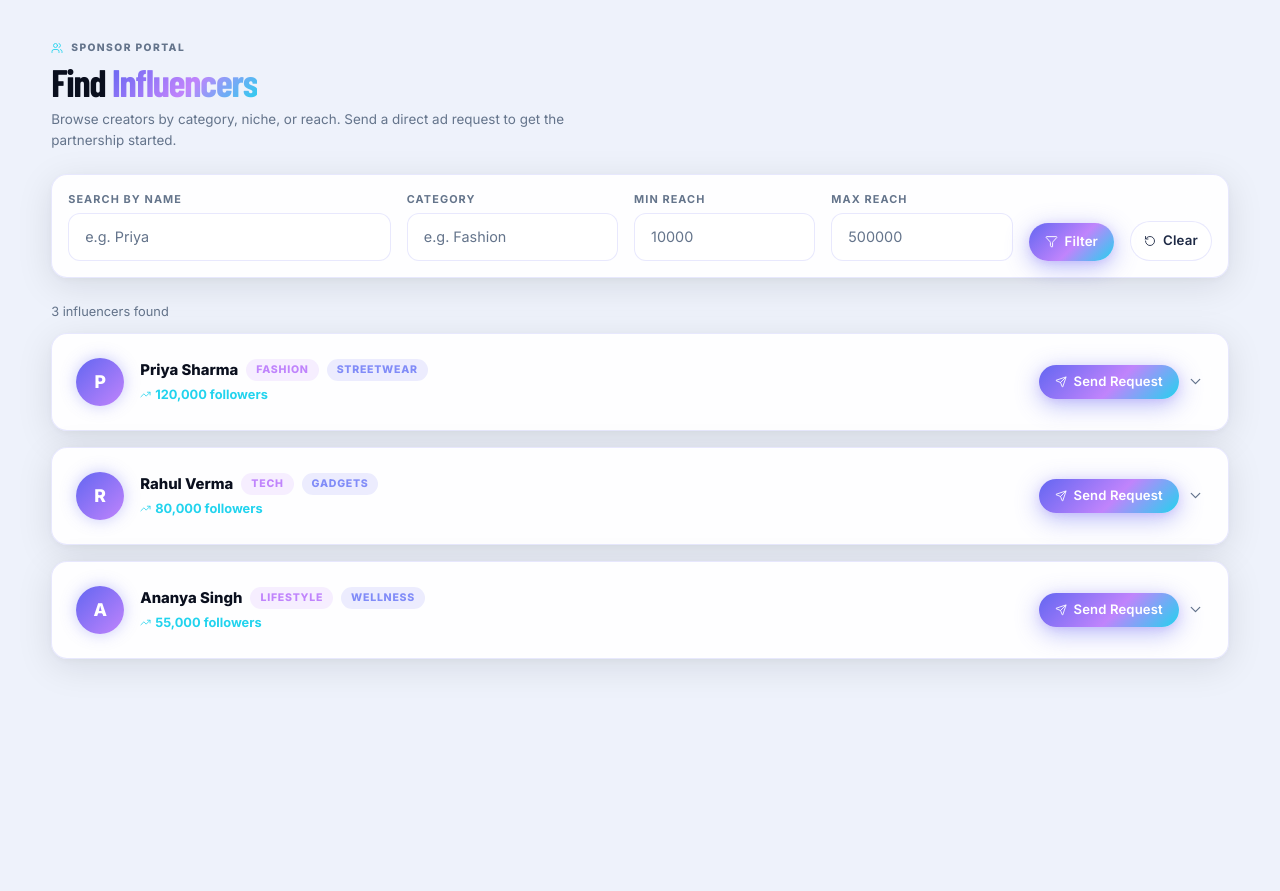
Test: InfluencerDirectory › shows error message on API failure
The image size is (1280, 891).
Expected: the text "Priya Sharma" is shown, top-left (140, 359), bottom-right (238, 381)
Click the button "Send Request" in the row of "Streetwear".
click(1109, 382)  # box top-left (1038, 365), bottom-right (1179, 399)
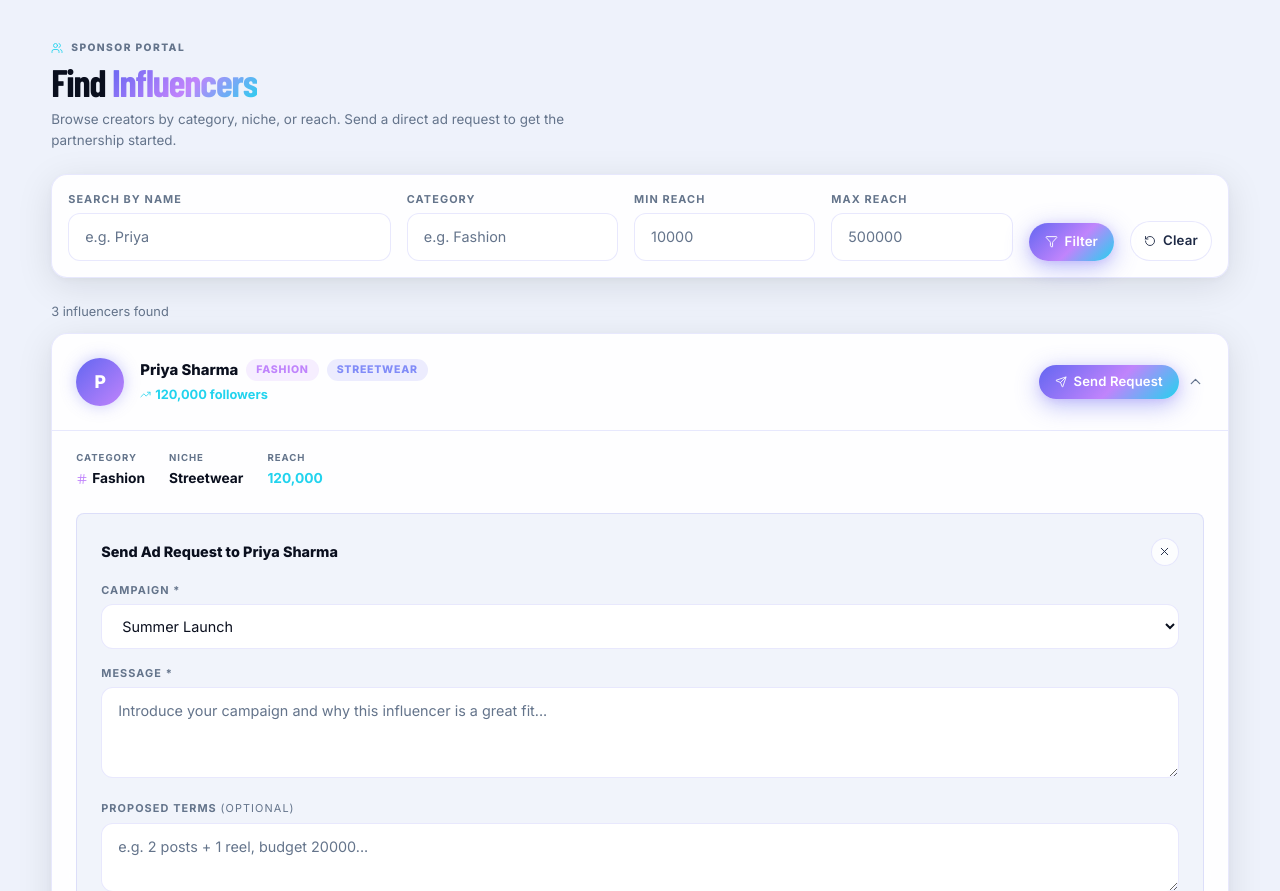
Expected: the text box with placeholder "Introduce your campaign" is shown, top-left (101, 688), bottom-right (1179, 778)
Select "Summer Launch" in the dropdown at x=640, y=627, box top-left (101, 604), bottom-right (1179, 649)
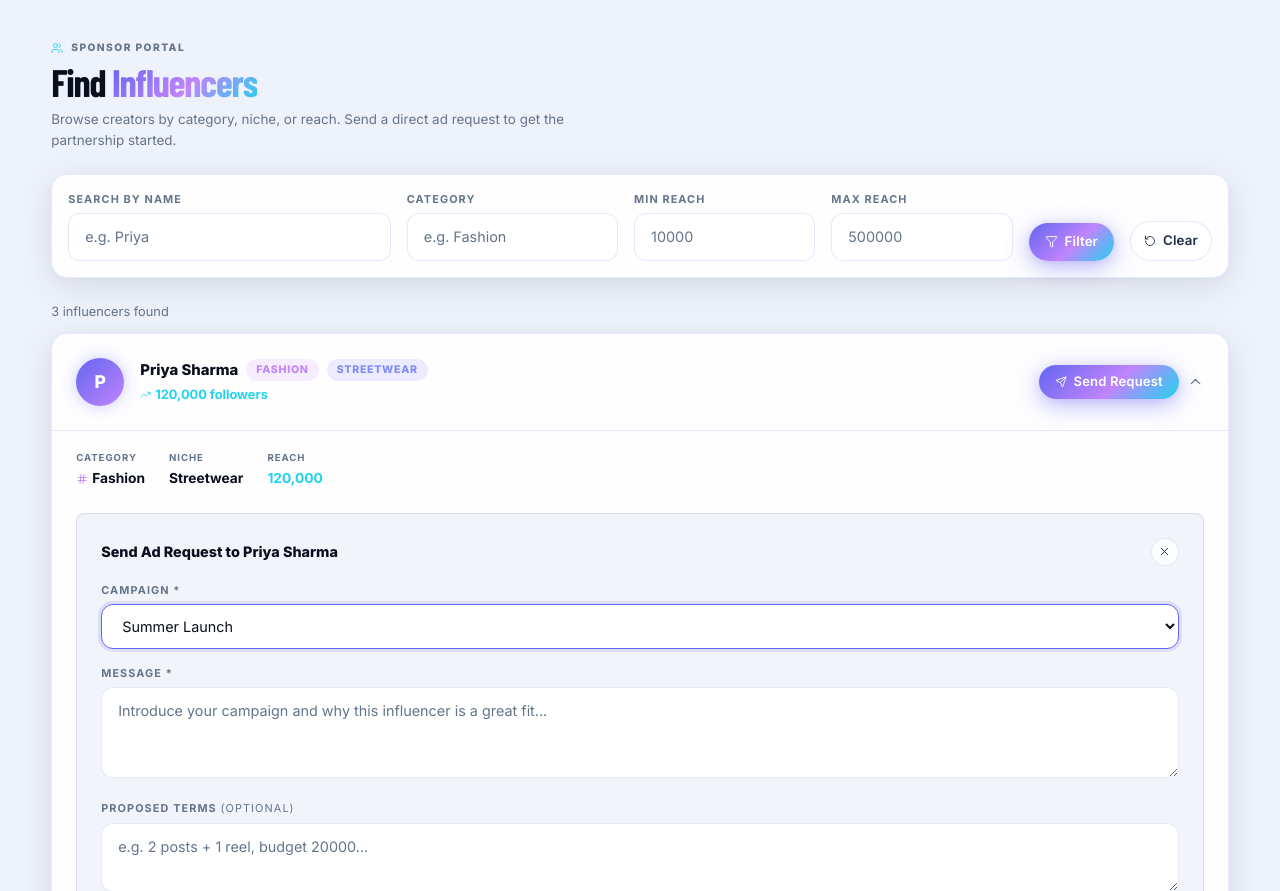
Type "Hi!" into the text box with placeholder "Introduce your campaign".
click(640, 733); type("Hi!")  # box top-left (101, 688), bottom-right (1179, 778)
(page scrolled)
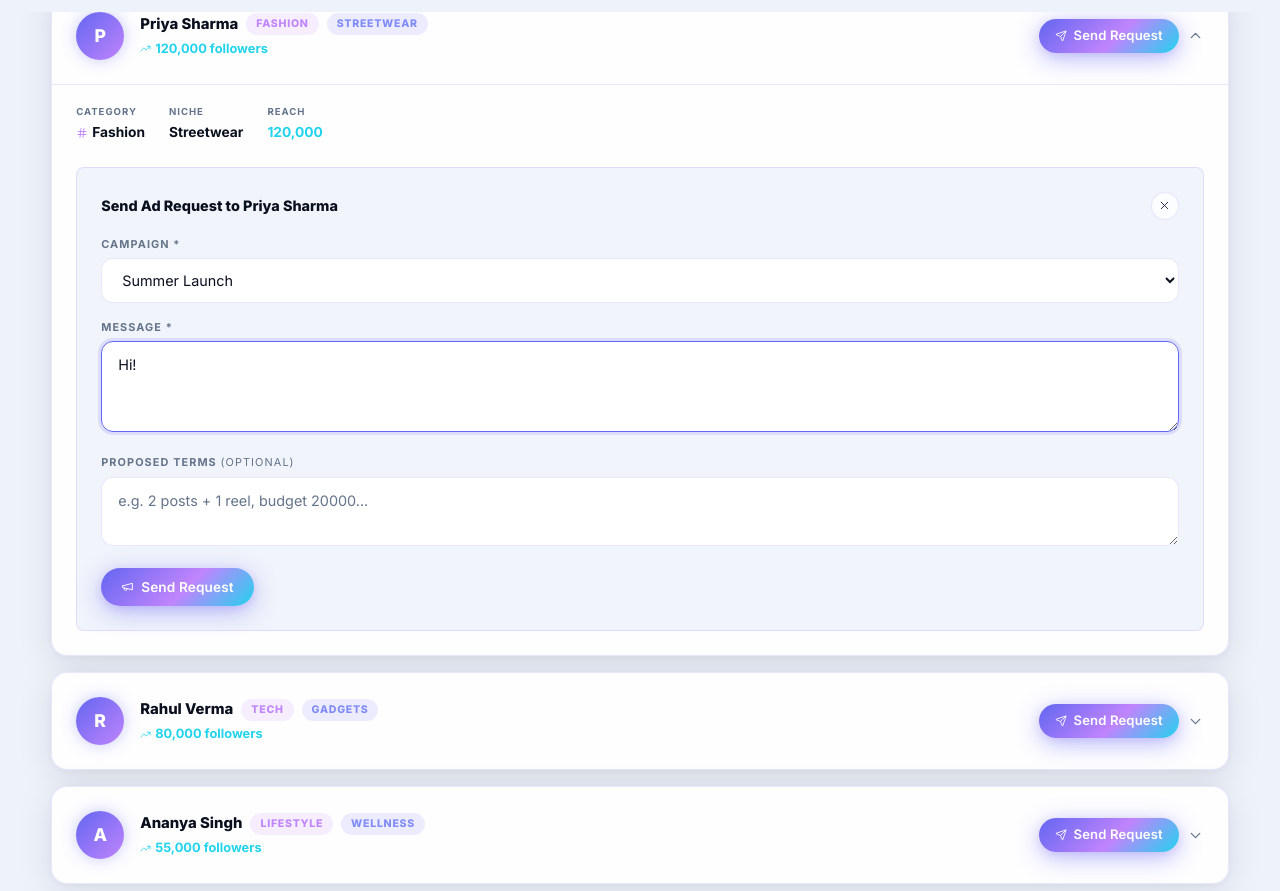
Note: The form submit is the brand button inside the request form container (has textarea sibling)
Click the button with class "is-btn-brand" below "Proposed Terms".
click(178, 587)  # box top-left (101, 568), bottom-right (254, 606)
(page scrolled)
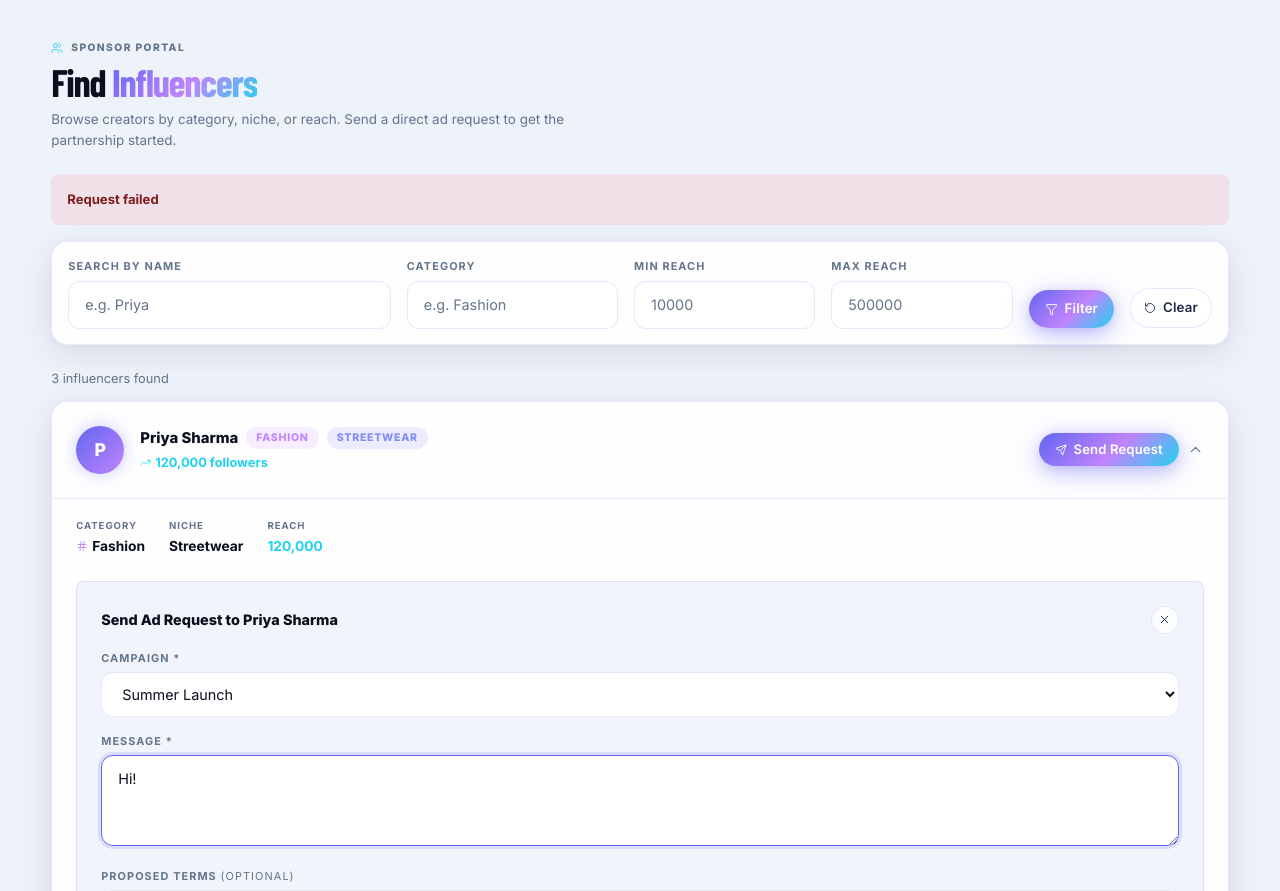
Expected: the text "Request failed" is shown, top-left (51, 174), bottom-right (1229, 225)
